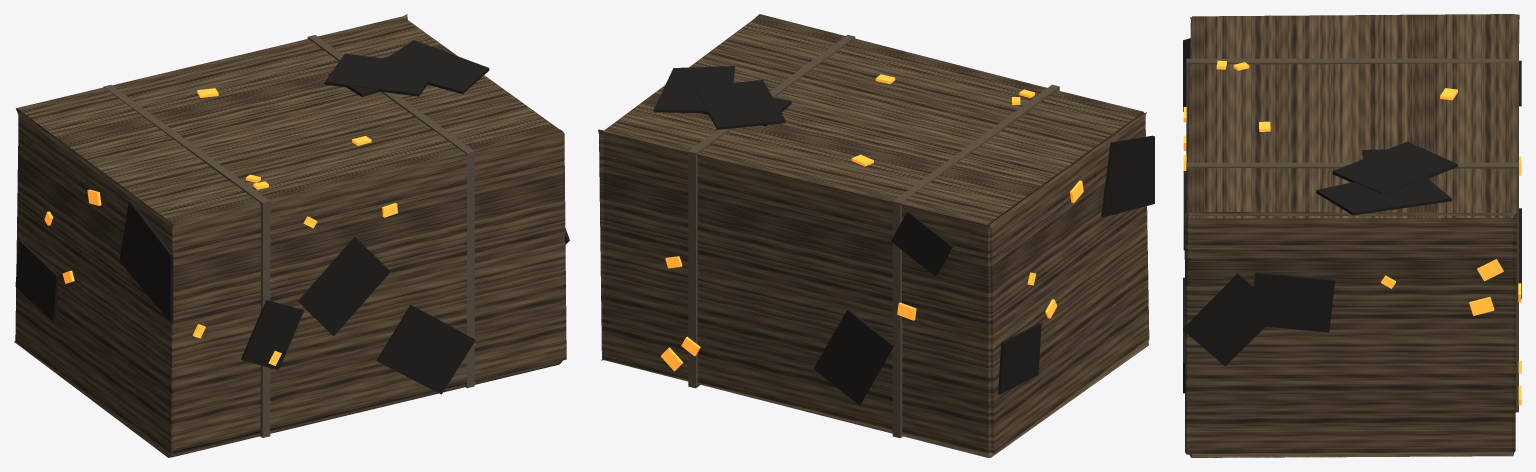
Rendered from bale_volcano.glb.
3 views of the same model, side by side, from view 1: azimuth 30°, elevation 25°; view 2: azimuth 150°, elevation 25°; view 3: azimuth 270°, elevation 25° (orthographic). The views are drawn at different scales.
Parts seen in each view (by area): view 1: BaleVolcano; view 2: BaleVolcano; view 3: BaleVolcano.
Boxes of the visible parts, left/top/right/bottom form: BaleVolcano: left=14, top=14, right=569, bottom=457; BaleVolcano: left=598, top=14, right=1154, bottom=457; BaleVolcano: left=1183, top=14, right=1521, bottom=457.
Bounding box in the file's own units: 1.31 × 0.7483 × 0.921.
Materials: 4 (1 with a texture image).
